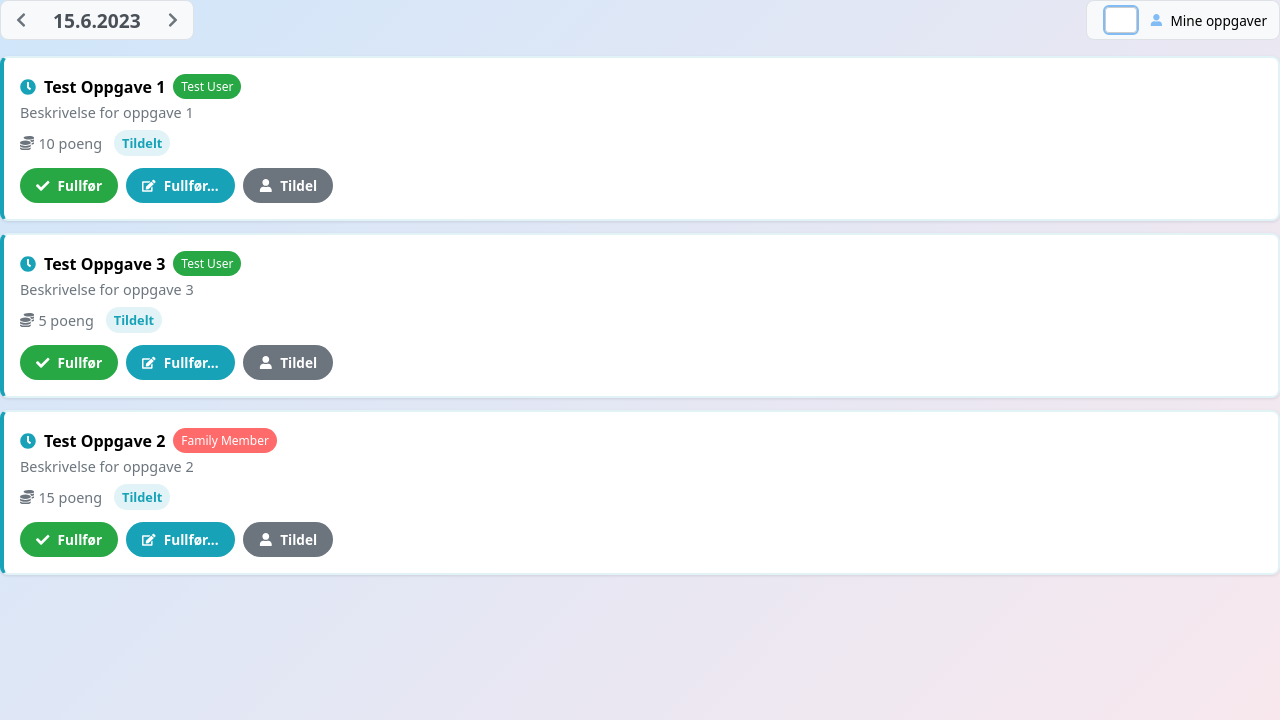
Scenario: TaskList › Mine oppgaver filter › should filter tasks to show only assigned tasks when toggle is checked
Expected: the heading "Test Oppgave 1 Test User" is shown, [20,74,241,99]
Expected: the heading "Test Oppgave 2 Family Member" is shown, [20,428,277,453]
// Click the filter toggle
What coordinates should you click on to do the following:
click the checkbox
I would click on:
 (1121, 20)
Its box is [1103,5,1139,35].
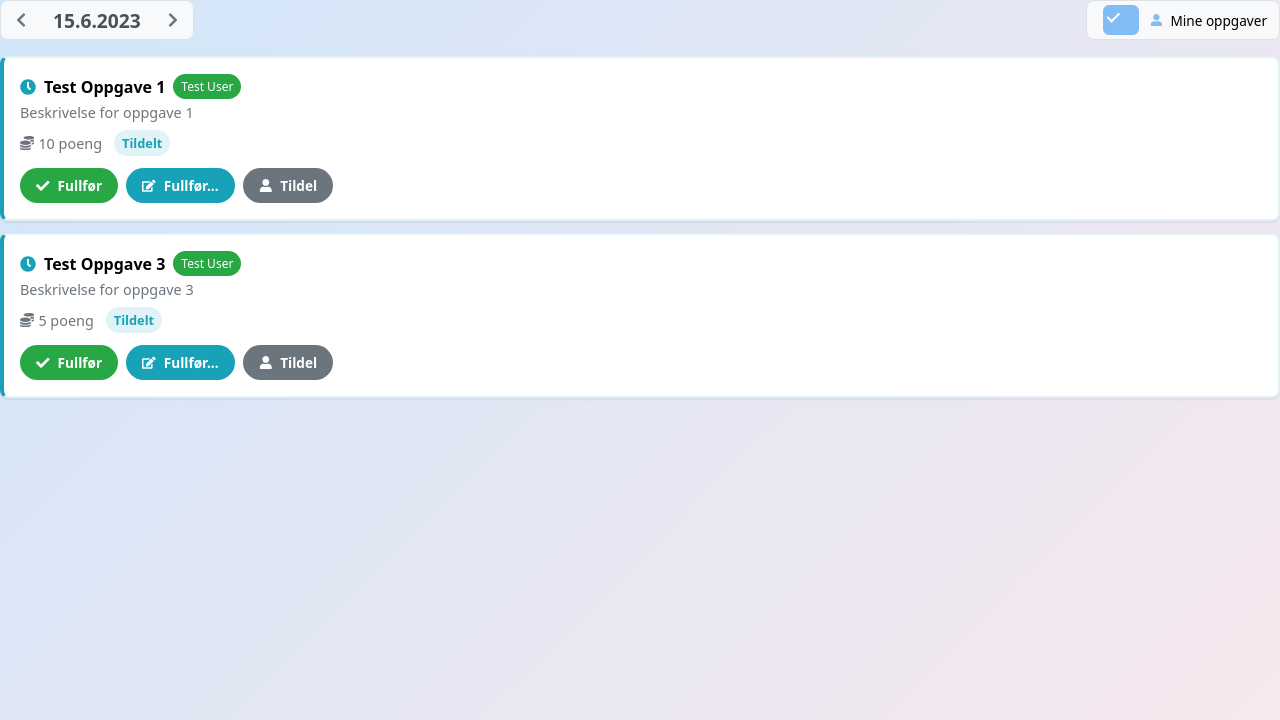
Expected: the heading "Test Oppgave 1 Test User" is shown, [20,74,241,99]
Expected: the heading "Test Oppgave 2" is gone
